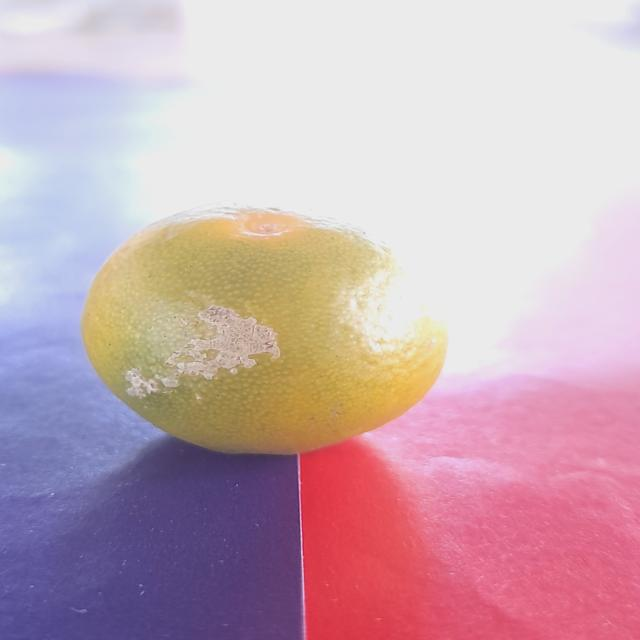thrips: (73, 206, 467, 449)
